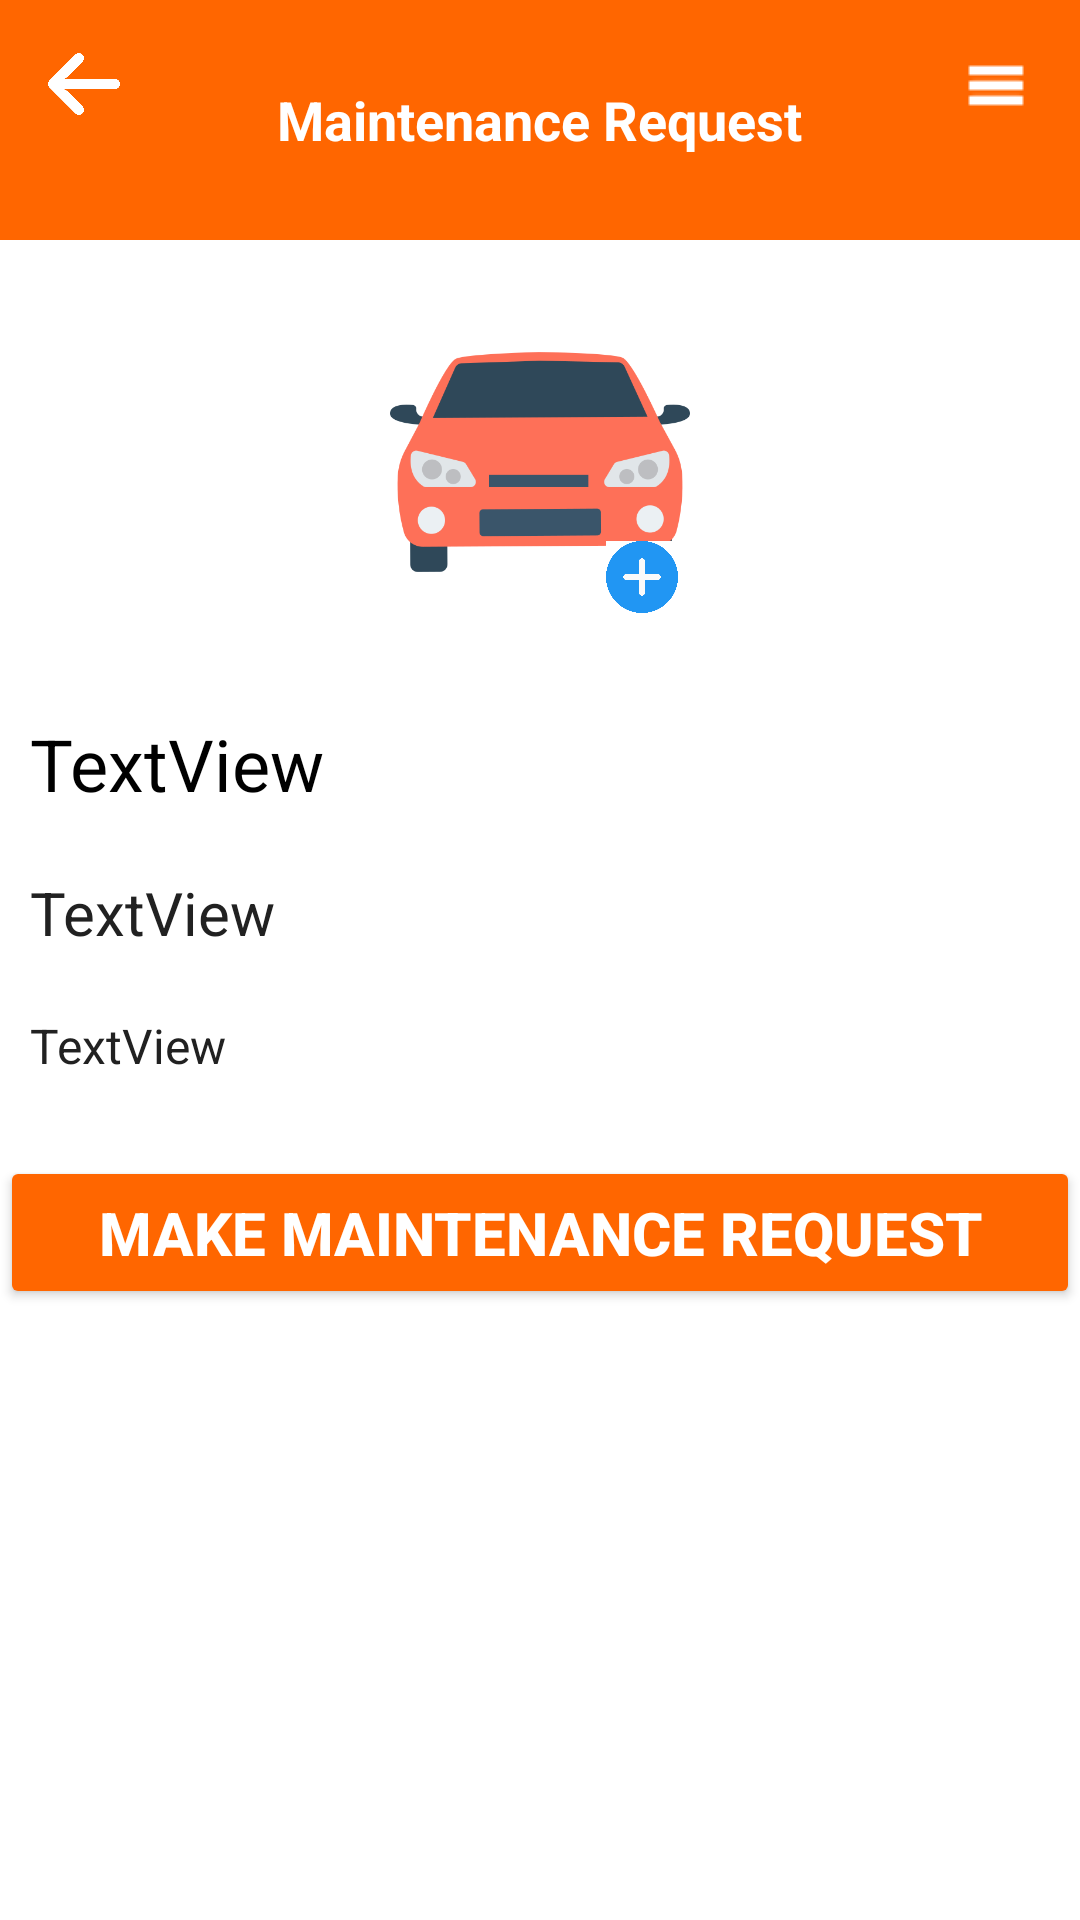

Icon bounding boxes for this 1080 x 1920 phone screenshot, format (x1, y1, x2, y2):
Back: (48, 53, 120, 115)
Menu: (968, 65, 1024, 106)
